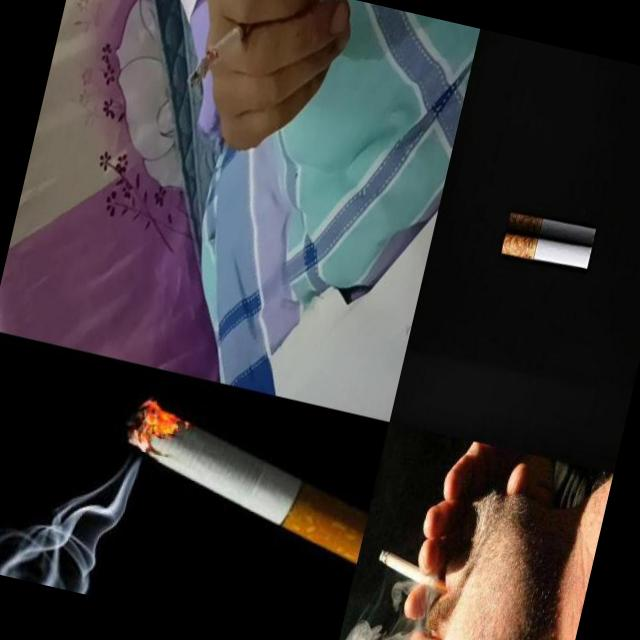smoke: (107, 394, 383, 568), (166, 0, 356, 173), (372, 547, 460, 601), (498, 226, 592, 274), (506, 208, 596, 247)
